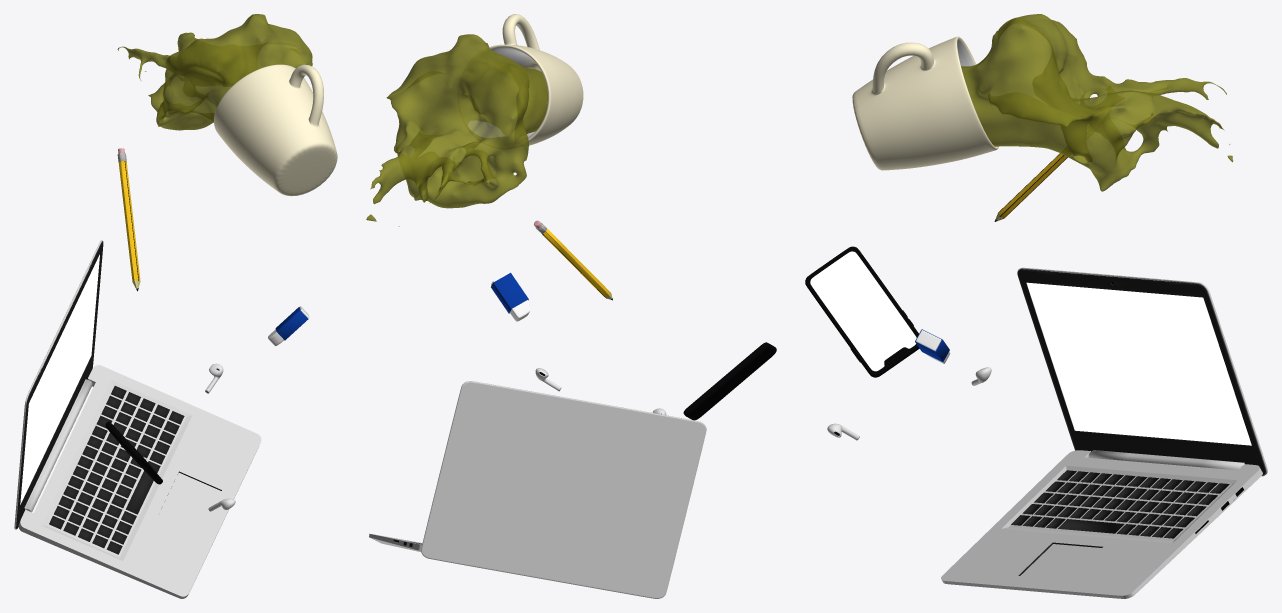
File: mlc_hero.glb
3 views of the same model, side by side, from view 1: azimuth 30°, elevation 25°; view 2: azimuth 150°, elevation 25°; view 3: azimuth 270°, elevation 25° (orthographic). The views are drawn at different scales.
Visible parts, largest first — view 1: iphone.003, Cylinder.002, liquido, Cylinder.007, Cube.011, Cube.007; view 2: iphone.003, liquido, Cylinder.002, Cube.007, Cube.011, Cylinder.007; view 3: iphone.003, liquido, Cylinder.002, Cube.007, Cylinder.007, Cube.011.
Boxes of the visible parts, x1,y1,x2,y2 form: iphone.003: [14, 240, 261, 598]; Cylinder.002: [214, 64, 337, 196]; liquido: [117, 14, 312, 130]; Cylinder.007: [117, 148, 140, 291]; Cube.011: [268, 306, 309, 346]; Cube.007: [105, 421, 162, 484]; iphone.003: [369, 381, 706, 598]; liquido: [366, 34, 547, 226]; Cylinder.002: [468, 14, 583, 145]; Cube.007: [683, 342, 776, 420]; Cube.011: [491, 272, 529, 321]; Cylinder.007: [534, 220, 612, 300]; iphone.003: [941, 267, 1267, 598]; liquido: [961, 14, 1233, 191]; Cylinder.002: [852, 36, 998, 170]; Cube.007: [805, 246, 919, 377]; Cylinder.007: [994, 153, 1067, 221]; Cube.011: [915, 329, 950, 363].
Bounding box in the file's own units: 6.51 × 11.32 × 7.62.
